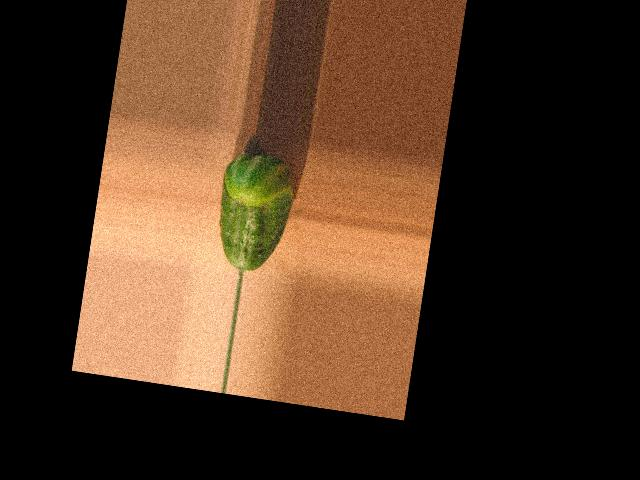cucumber: (209, 150, 297, 276)
